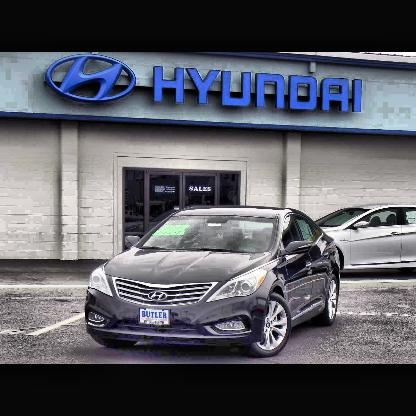Hyundai Azera Sedan 2012: (83, 204, 347, 356)
